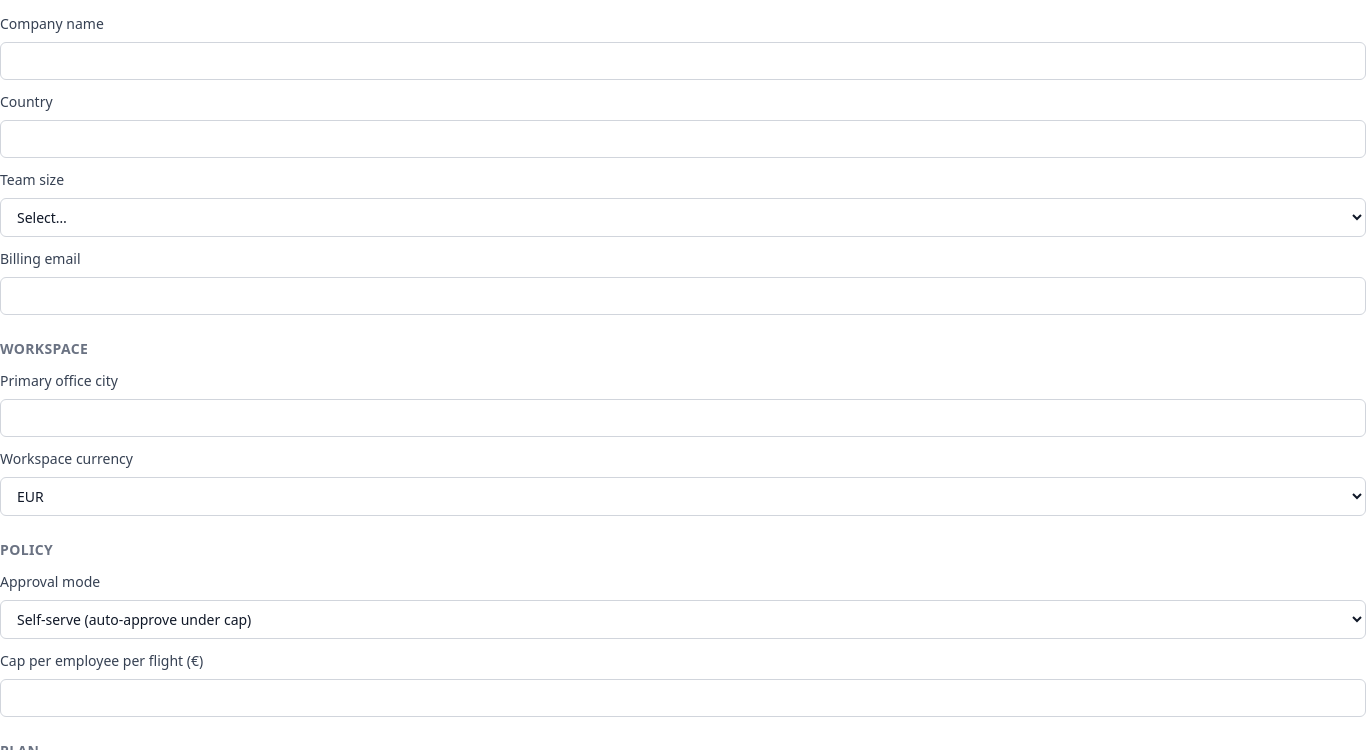
Test: CompanyProfileForm › shows role=alert when client-side validation fails (e.g. missing required fields)
Type "Acme" into the field labelled "Company name" at (683, 61), box [0,42,1365,80]
(page scrolled)
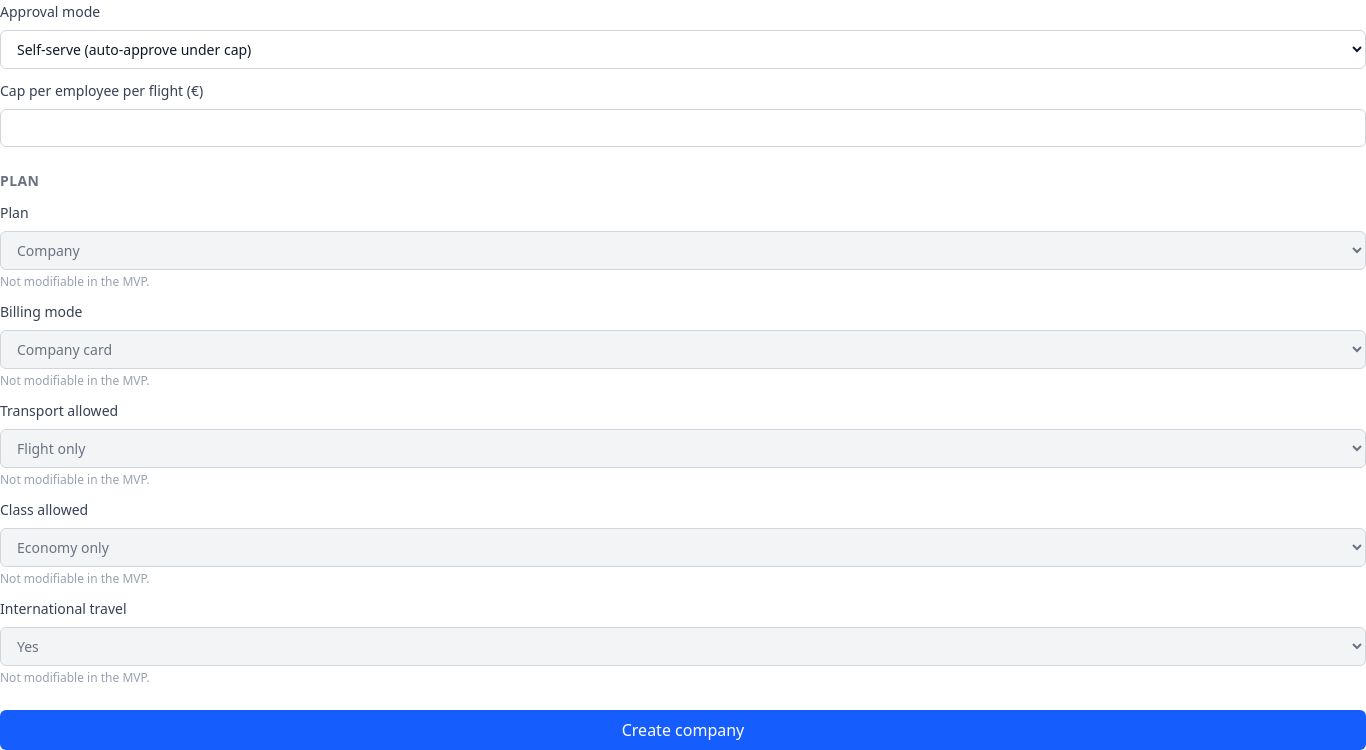
Click the button "Create company" at (683, 730), box [0,710,1365,749]
(page scrolled)
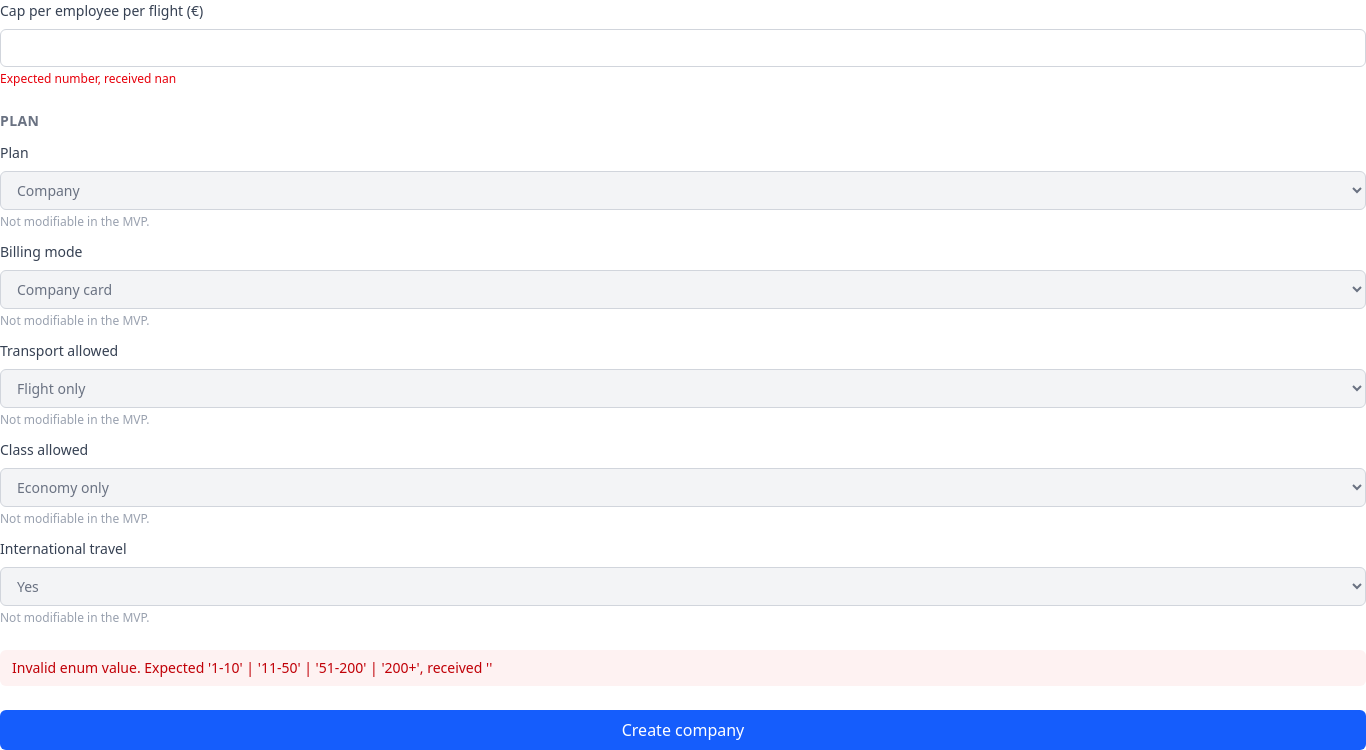
Result: the message "Invalid enum value. Expected '1-10' | '11-50' | '51-200' | '200+', received ''" is shown at [0,650,1365,686]
